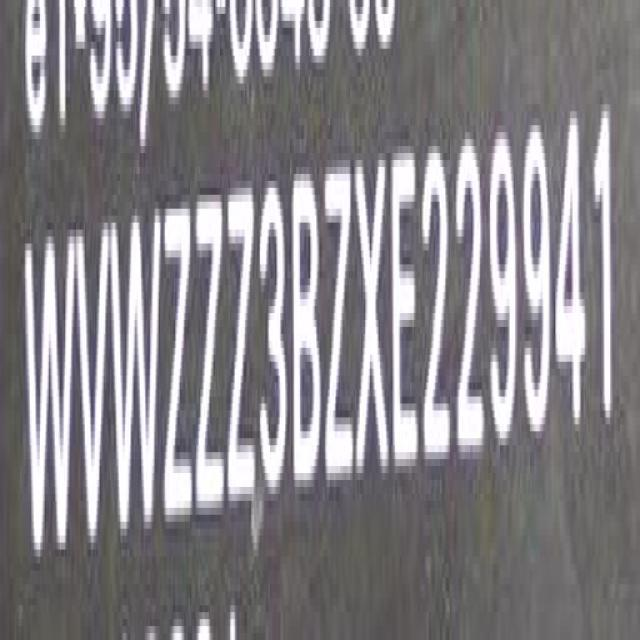1: (596, 98, 618, 438)
2: (452, 133, 483, 471), (422, 141, 452, 478)
3: (258, 174, 290, 504)
4: (554, 107, 588, 444)
9: (522, 120, 553, 452), (490, 123, 520, 458)
B: (293, 169, 323, 500)
E: (390, 150, 421, 477)
V: (76, 216, 110, 554)
W: (109, 208, 162, 538), (26, 232, 71, 569)
X: (356, 150, 389, 492)
Z: (195, 188, 227, 524), (163, 198, 194, 536), (324, 155, 353, 498), (227, 184, 256, 517)
